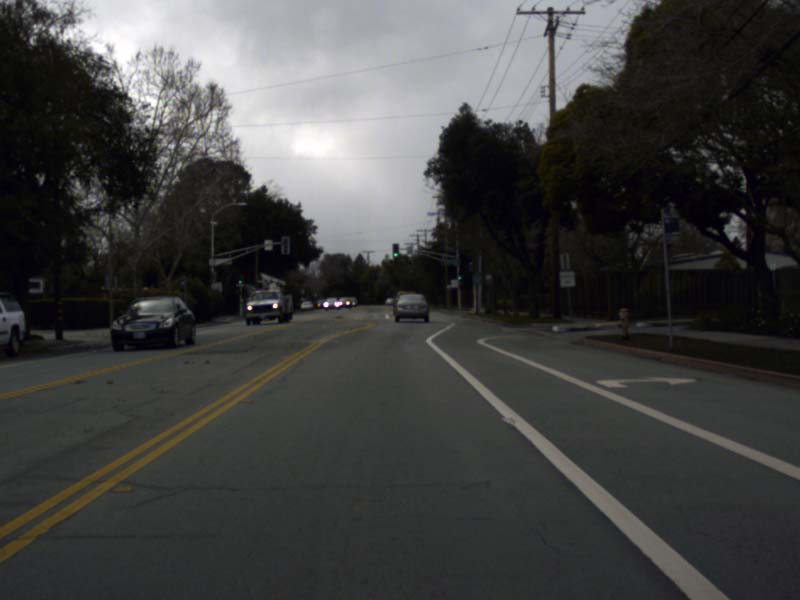Green: (392, 242, 398, 259), (457, 274, 463, 288), (237, 274, 242, 285)
